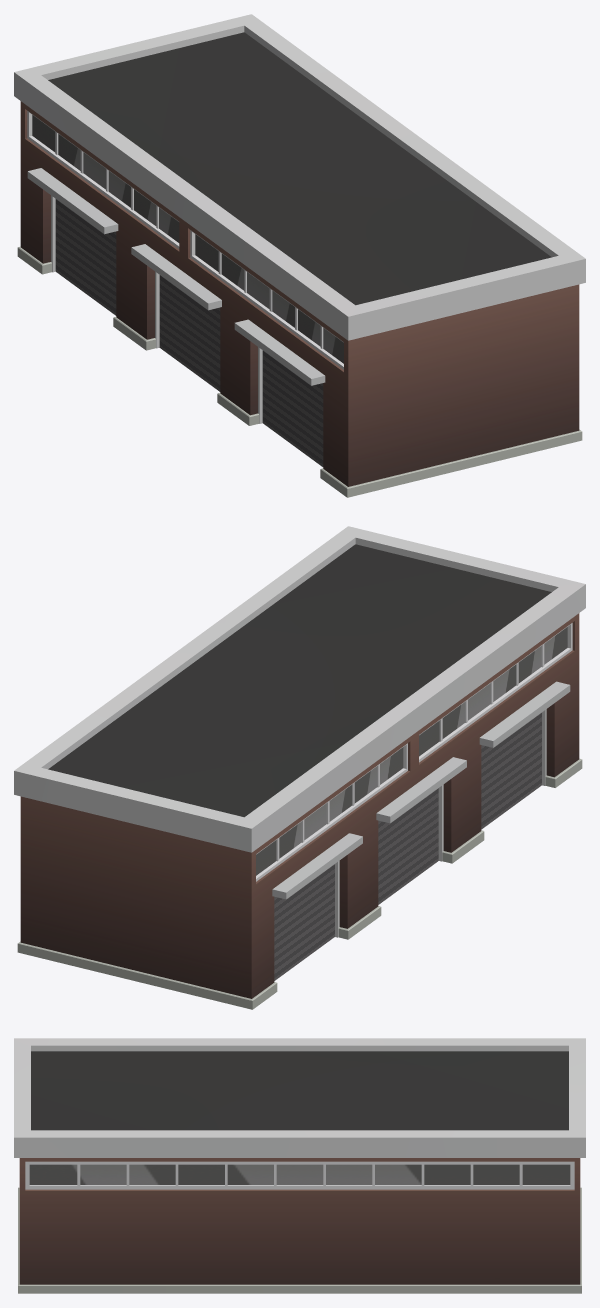
File: Building_Fabric_3_B.glb
The picture shows the model from 3 angles, top to bottom: view 1: azimuth 30°, elevation 25°; view 2: azimuth 150°, elevation 25°; view 3: azimuth 270°, elevation 25°; orthographic projection. The views are drawn at different scales.
Visible parts, largest first — view 1: Building_Fabric_3_B; view 2: Building_Fabric_3_B; view 3: Building_Fabric_3_B.
Boxes of the visible parts, bbox=[...] form: Building_Fabric_3_B: bbox=[14, 14, 585, 497]; Building_Fabric_3_B: bbox=[14, 526, 585, 1009]; Building_Fabric_3_B: bbox=[14, 1038, 585, 1293].
Size of the model in its own units: 6.57 by 4.62 by 15.31.
3 materials, 3 textured.
